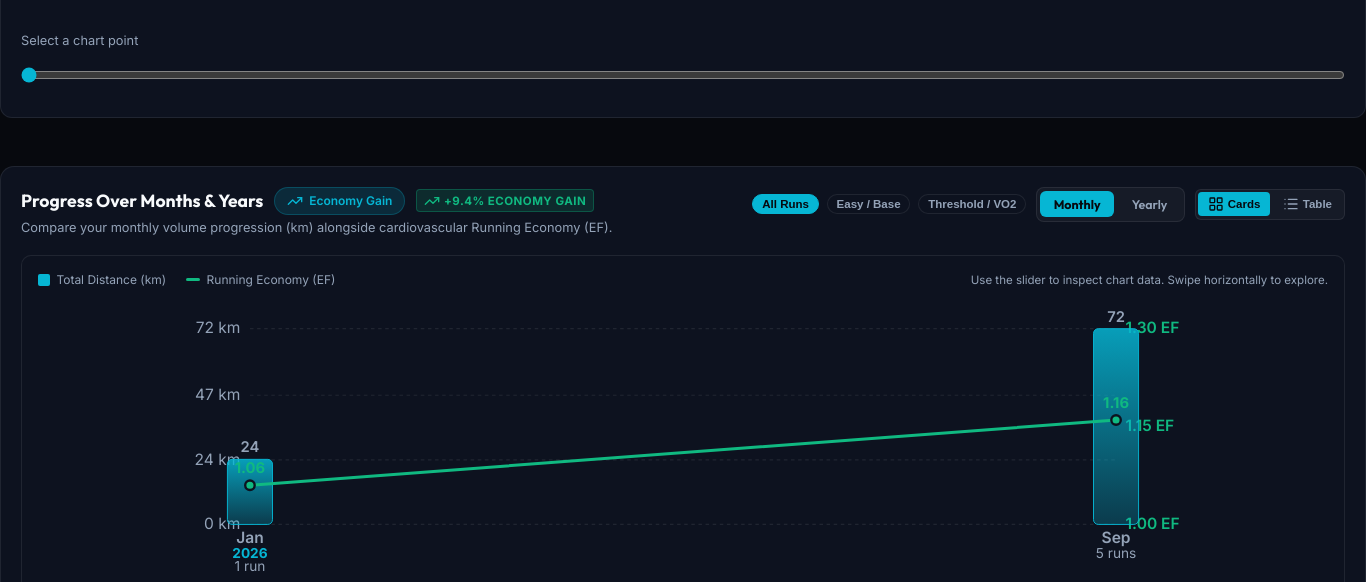
Scenario: ProgressView UI Tests › renders PeriodProgressView and toggles between Monthly and Yearly views
(page scrolled)
Expected: the text "Progress Over Months & Years" is shown, [21,189,263,212]
// Switch to Yearly
Click the button "Yearly".
click(1150, 204)  # box [1118,191,1181,217]
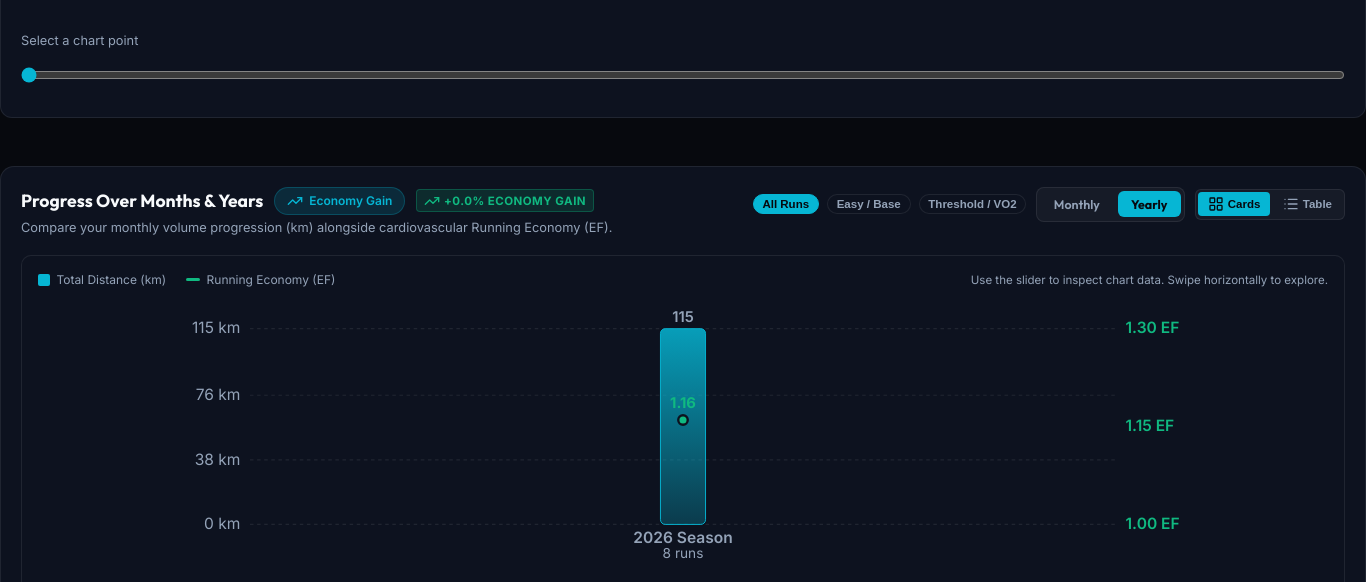
Expected: the text "2026 Season" is shown, [633,528,733,548]
// Switch back to Monthly
Click the button "Monthly".
click(1077, 204)  # box [1040,191,1114,217]
(page scrolled)
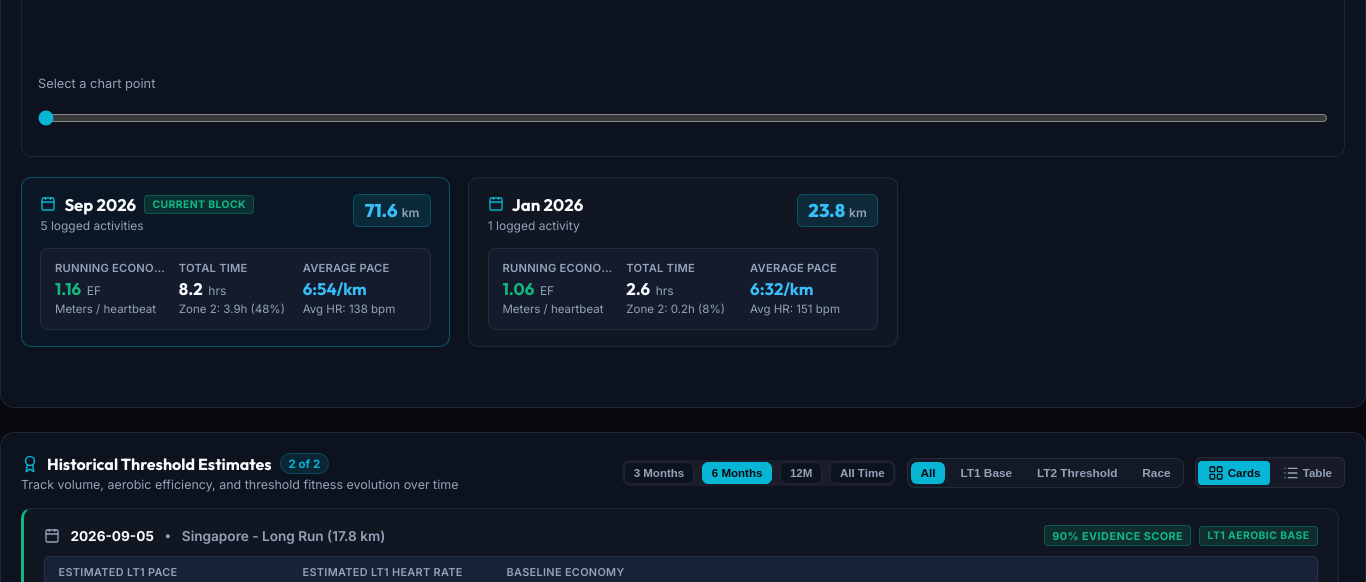
Now the text "Sep 2026" is shown, box [64,194,136,215]
